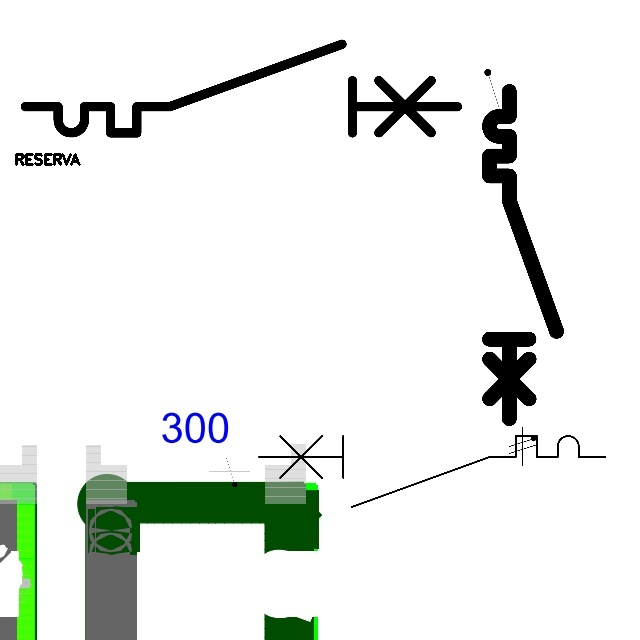interruptor_termomagnetico: (14, 33, 469, 144), (250, 427, 614, 516), (481, 83, 565, 427)
